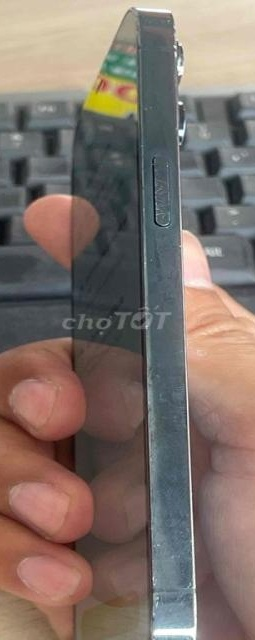scratch: (127, 66, 199, 460)
